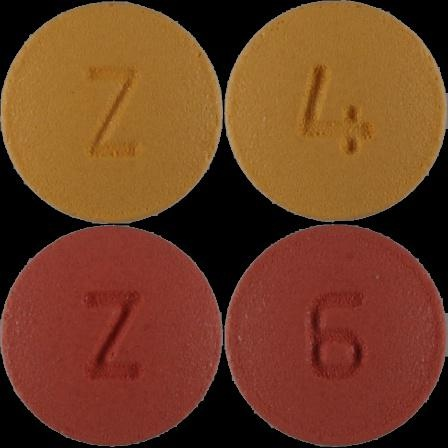67046-653: (0, 0, 224, 224)
